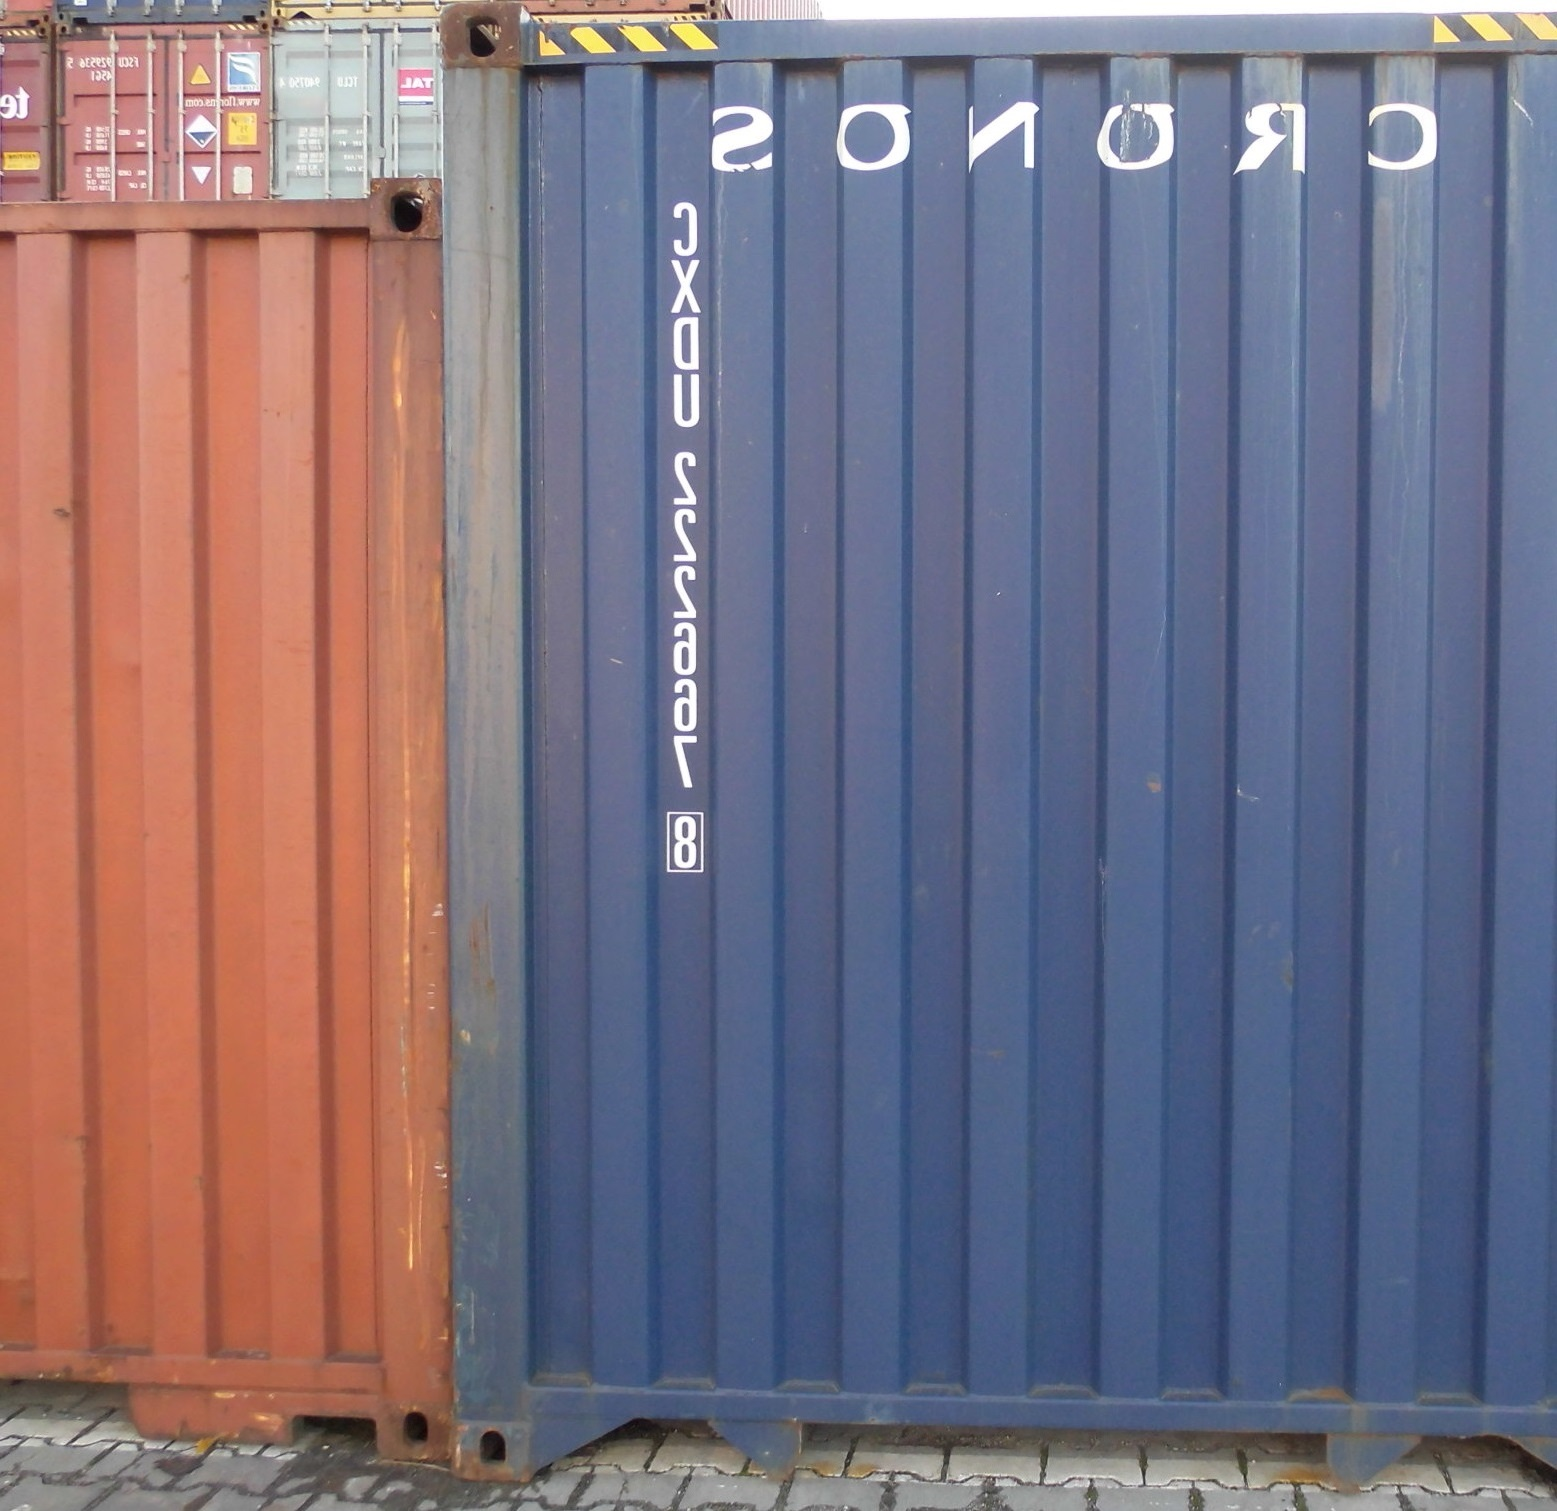container_door: (56, 25, 278, 203), (272, 10, 446, 207)
container_no_door: (448, 17, 1549, 1489), (1, 175, 448, 1464)
